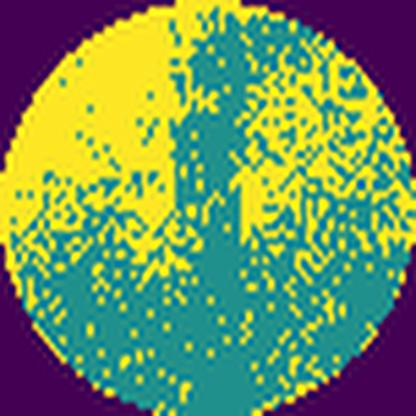Edge-Loc: (0, 0, 217, 283), (237, 32, 416, 256)
